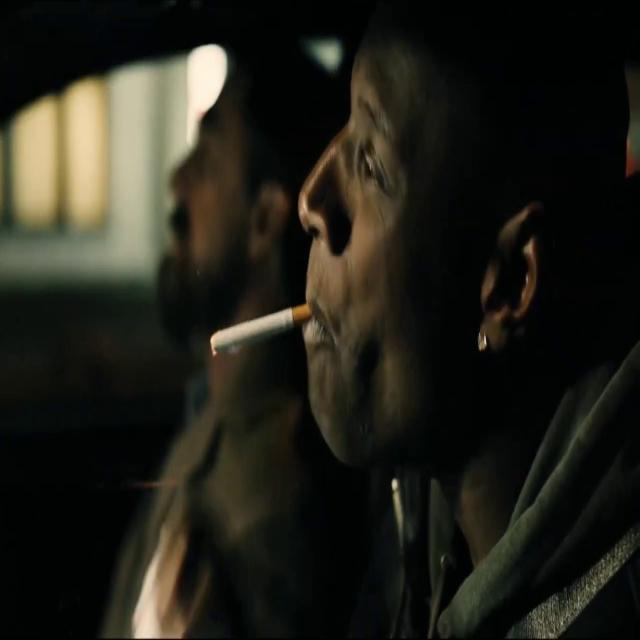Smooking: (197, 301, 317, 359)
